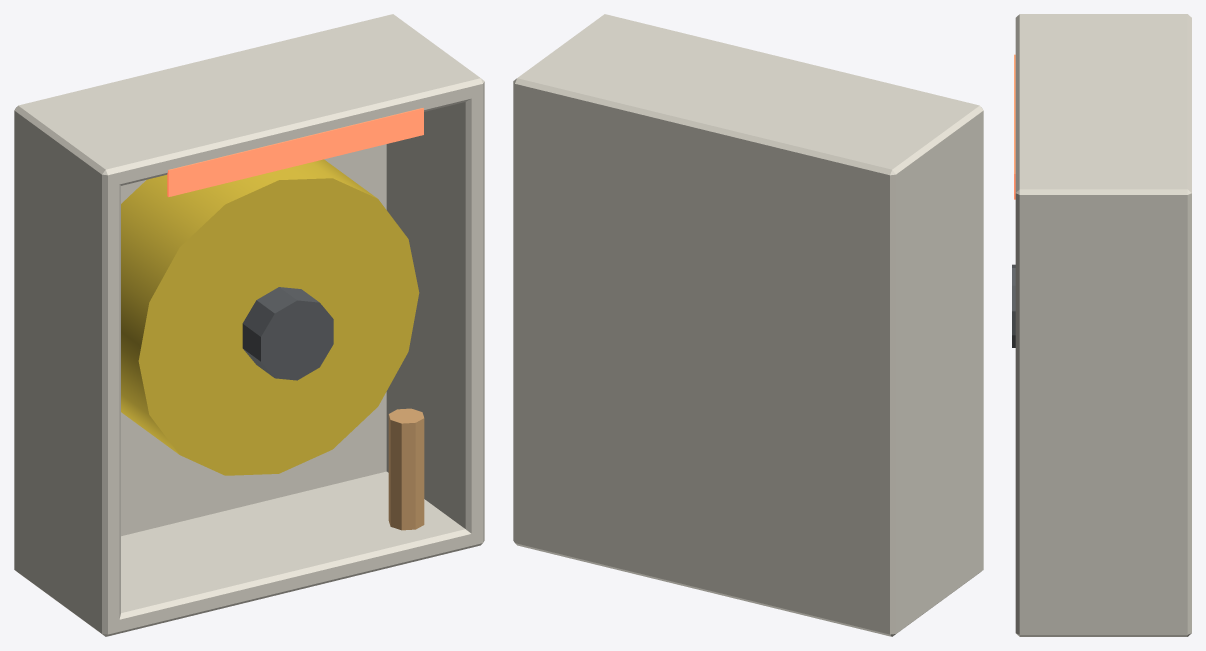
Rendered from fire_hose_reel.glb.
3 renders of one model, left to right at view 1: azimuth 30°, elevation 25°; view 2: azimuth 150°, elevation 25°; view 3: azimuth 270°, elevation 25°, orthographic. The views are drawn at different scales.
Visible parts, largest first — view 1: fire_hose_reel; view 2: fire_hose_reel; view 3: fire_hose_reel.
Boxes of the visible parts, box(x1,y1,x2,y2) form: fire_hose_reel: box(14, 14, 484, 636); fire_hose_reel: box(513, 14, 983, 636); fire_hose_reel: box(1012, 14, 1191, 636).
Size of the model in its own units: 0.6 by 0.7 by 0.255.
